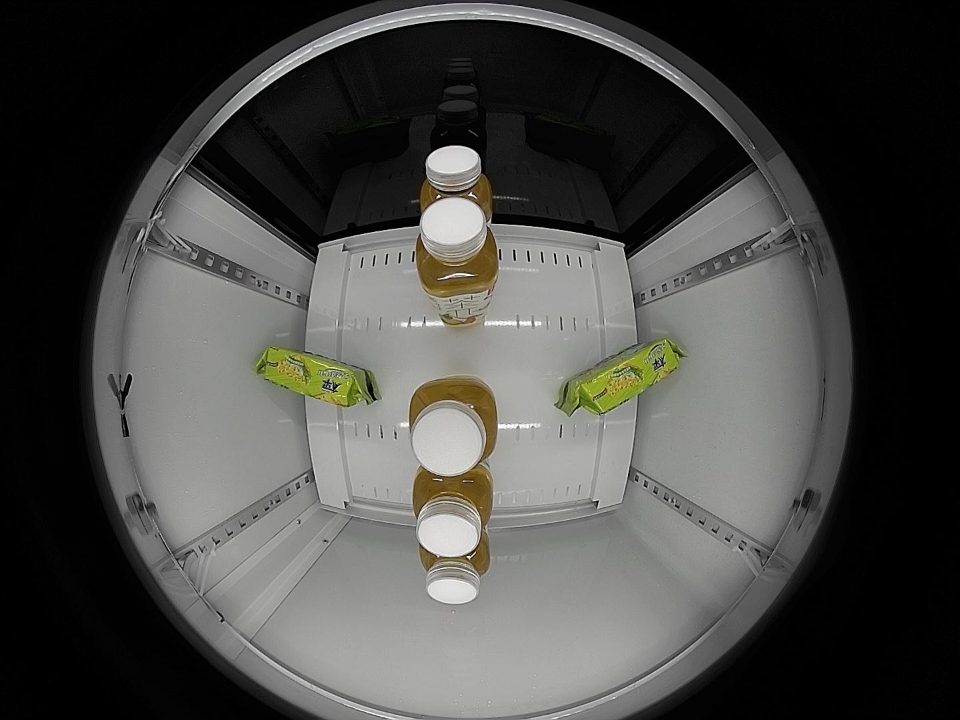chapai2: (408, 376, 499, 477), (415, 198, 500, 298), (412, 466, 494, 558), (420, 144, 493, 217), (419, 538, 491, 605)
taipingshuda: (555, 337, 683, 418), (254, 347, 383, 409)
